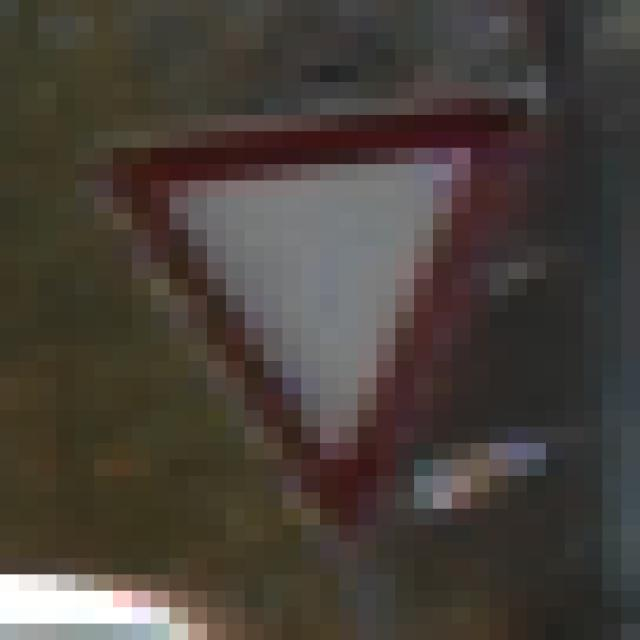Give Way: (95, 83, 547, 543)
